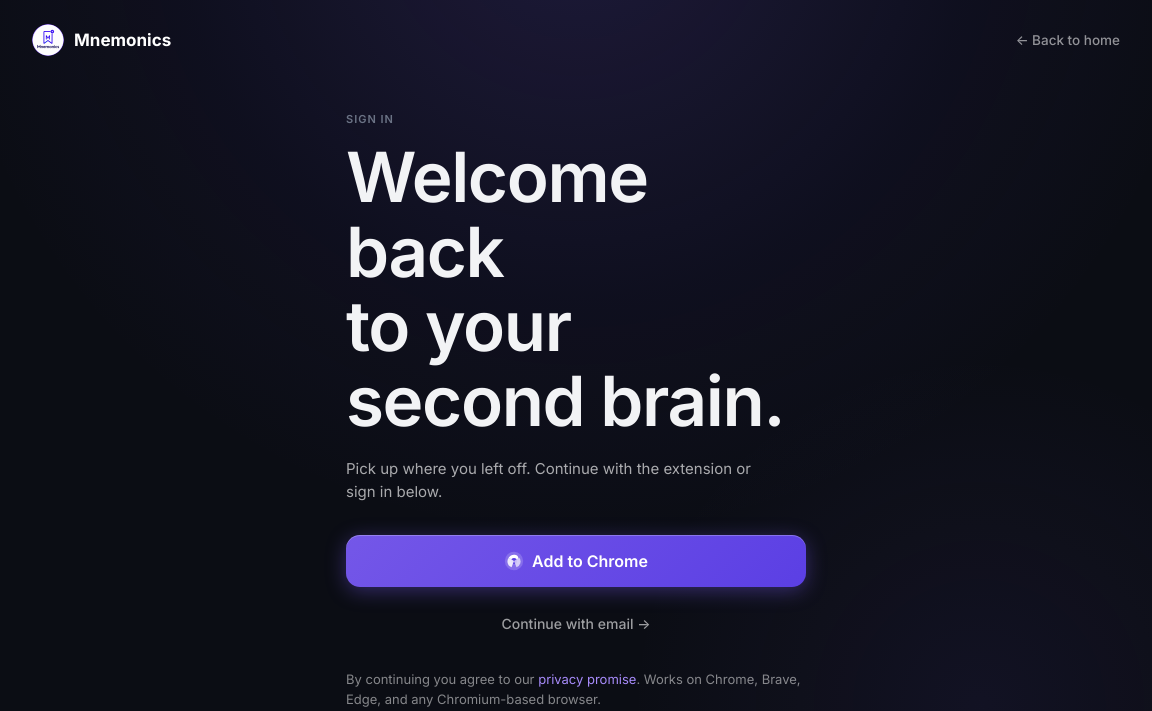
Test case: AuthLayout › hides the LoginForm in-form mode toggle (no duplicate cross-link)
The image size is (1152, 711).
Click the button "Continue with email →".
click(576, 624)  # box [346,603,806,645]
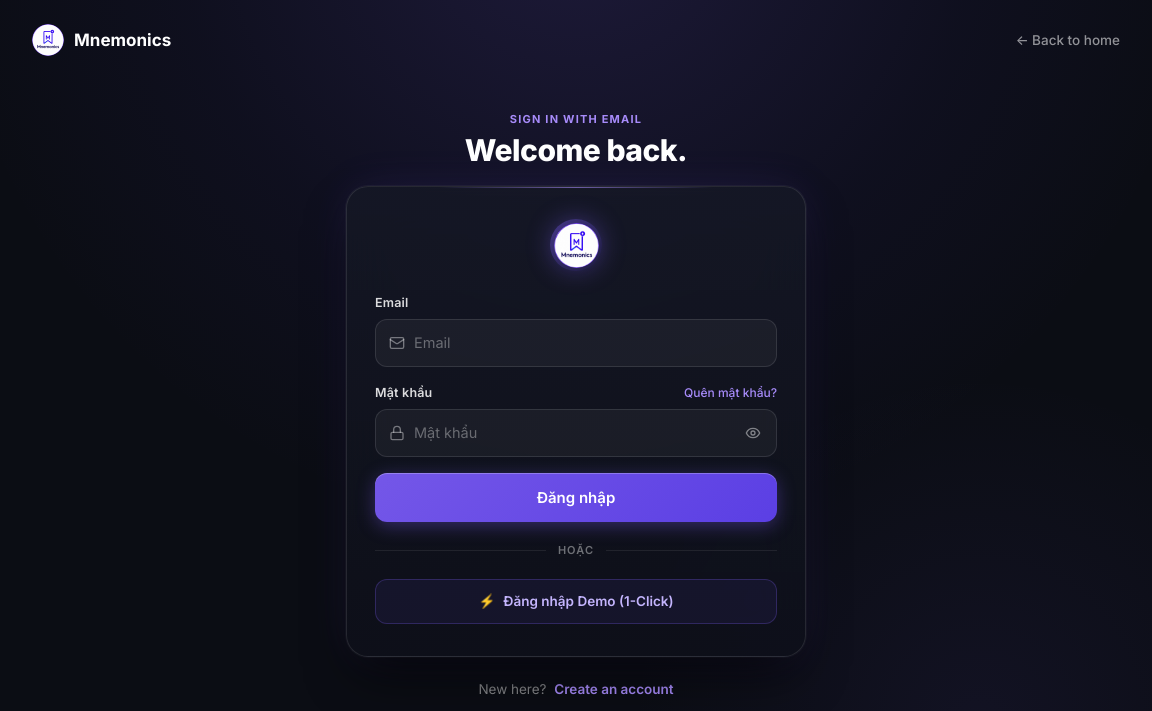
expect the link "Create an account" is shown: met, box [554,681,674,697]
